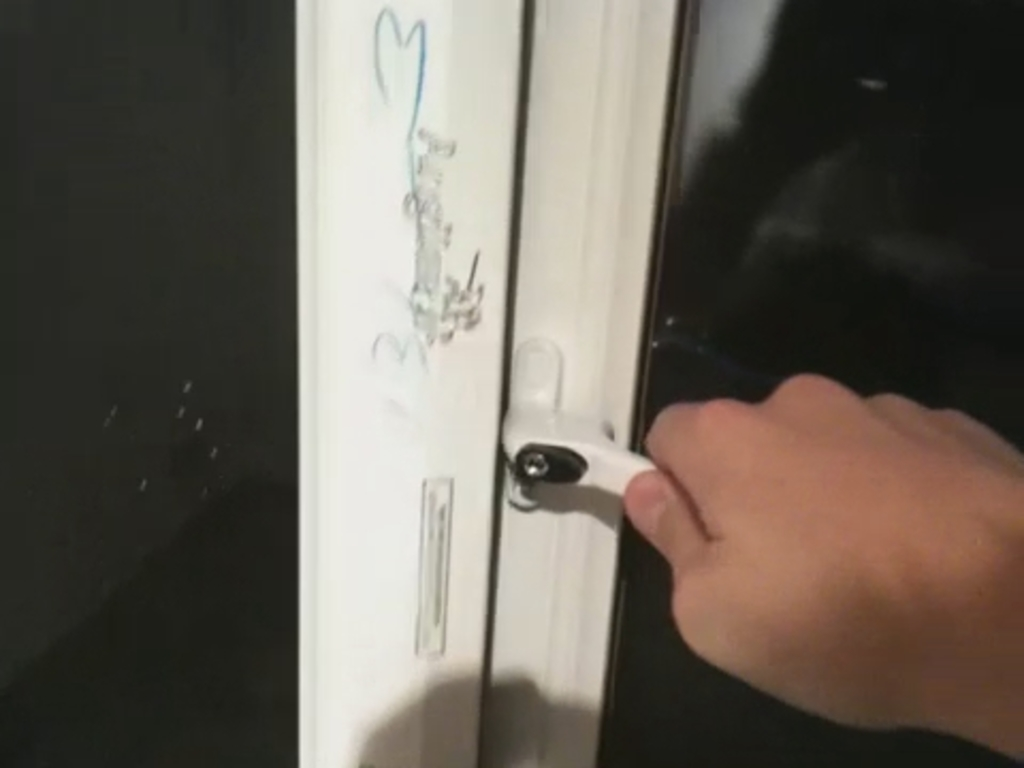door: (530, 16, 1017, 768), (14, 36, 498, 768)
handle: (510, 402, 695, 516)
